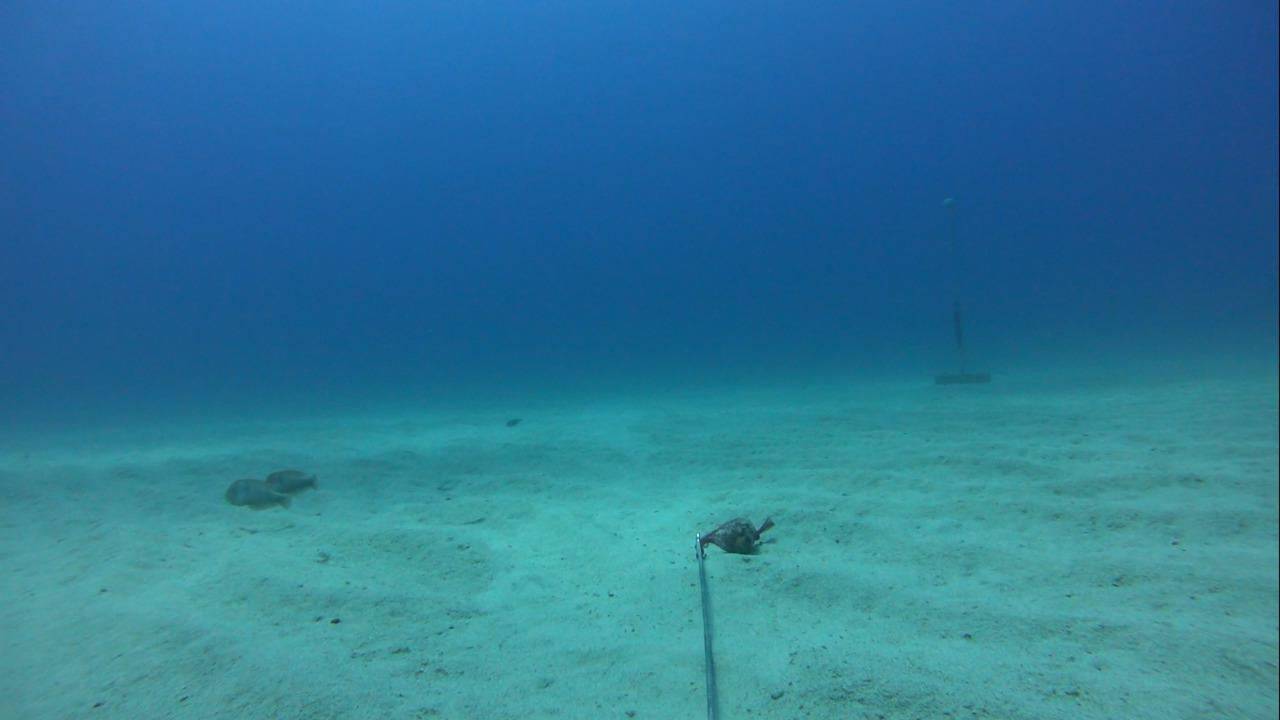raor: (216, 472, 294, 518), (263, 463, 316, 495)
